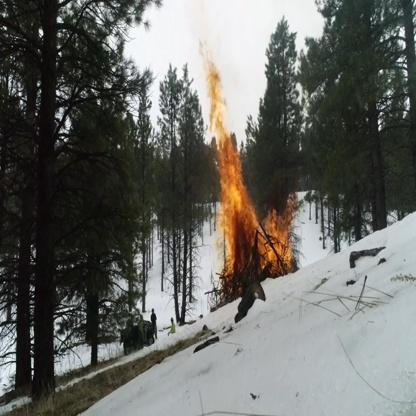Fire: (188, 0, 300, 299)
